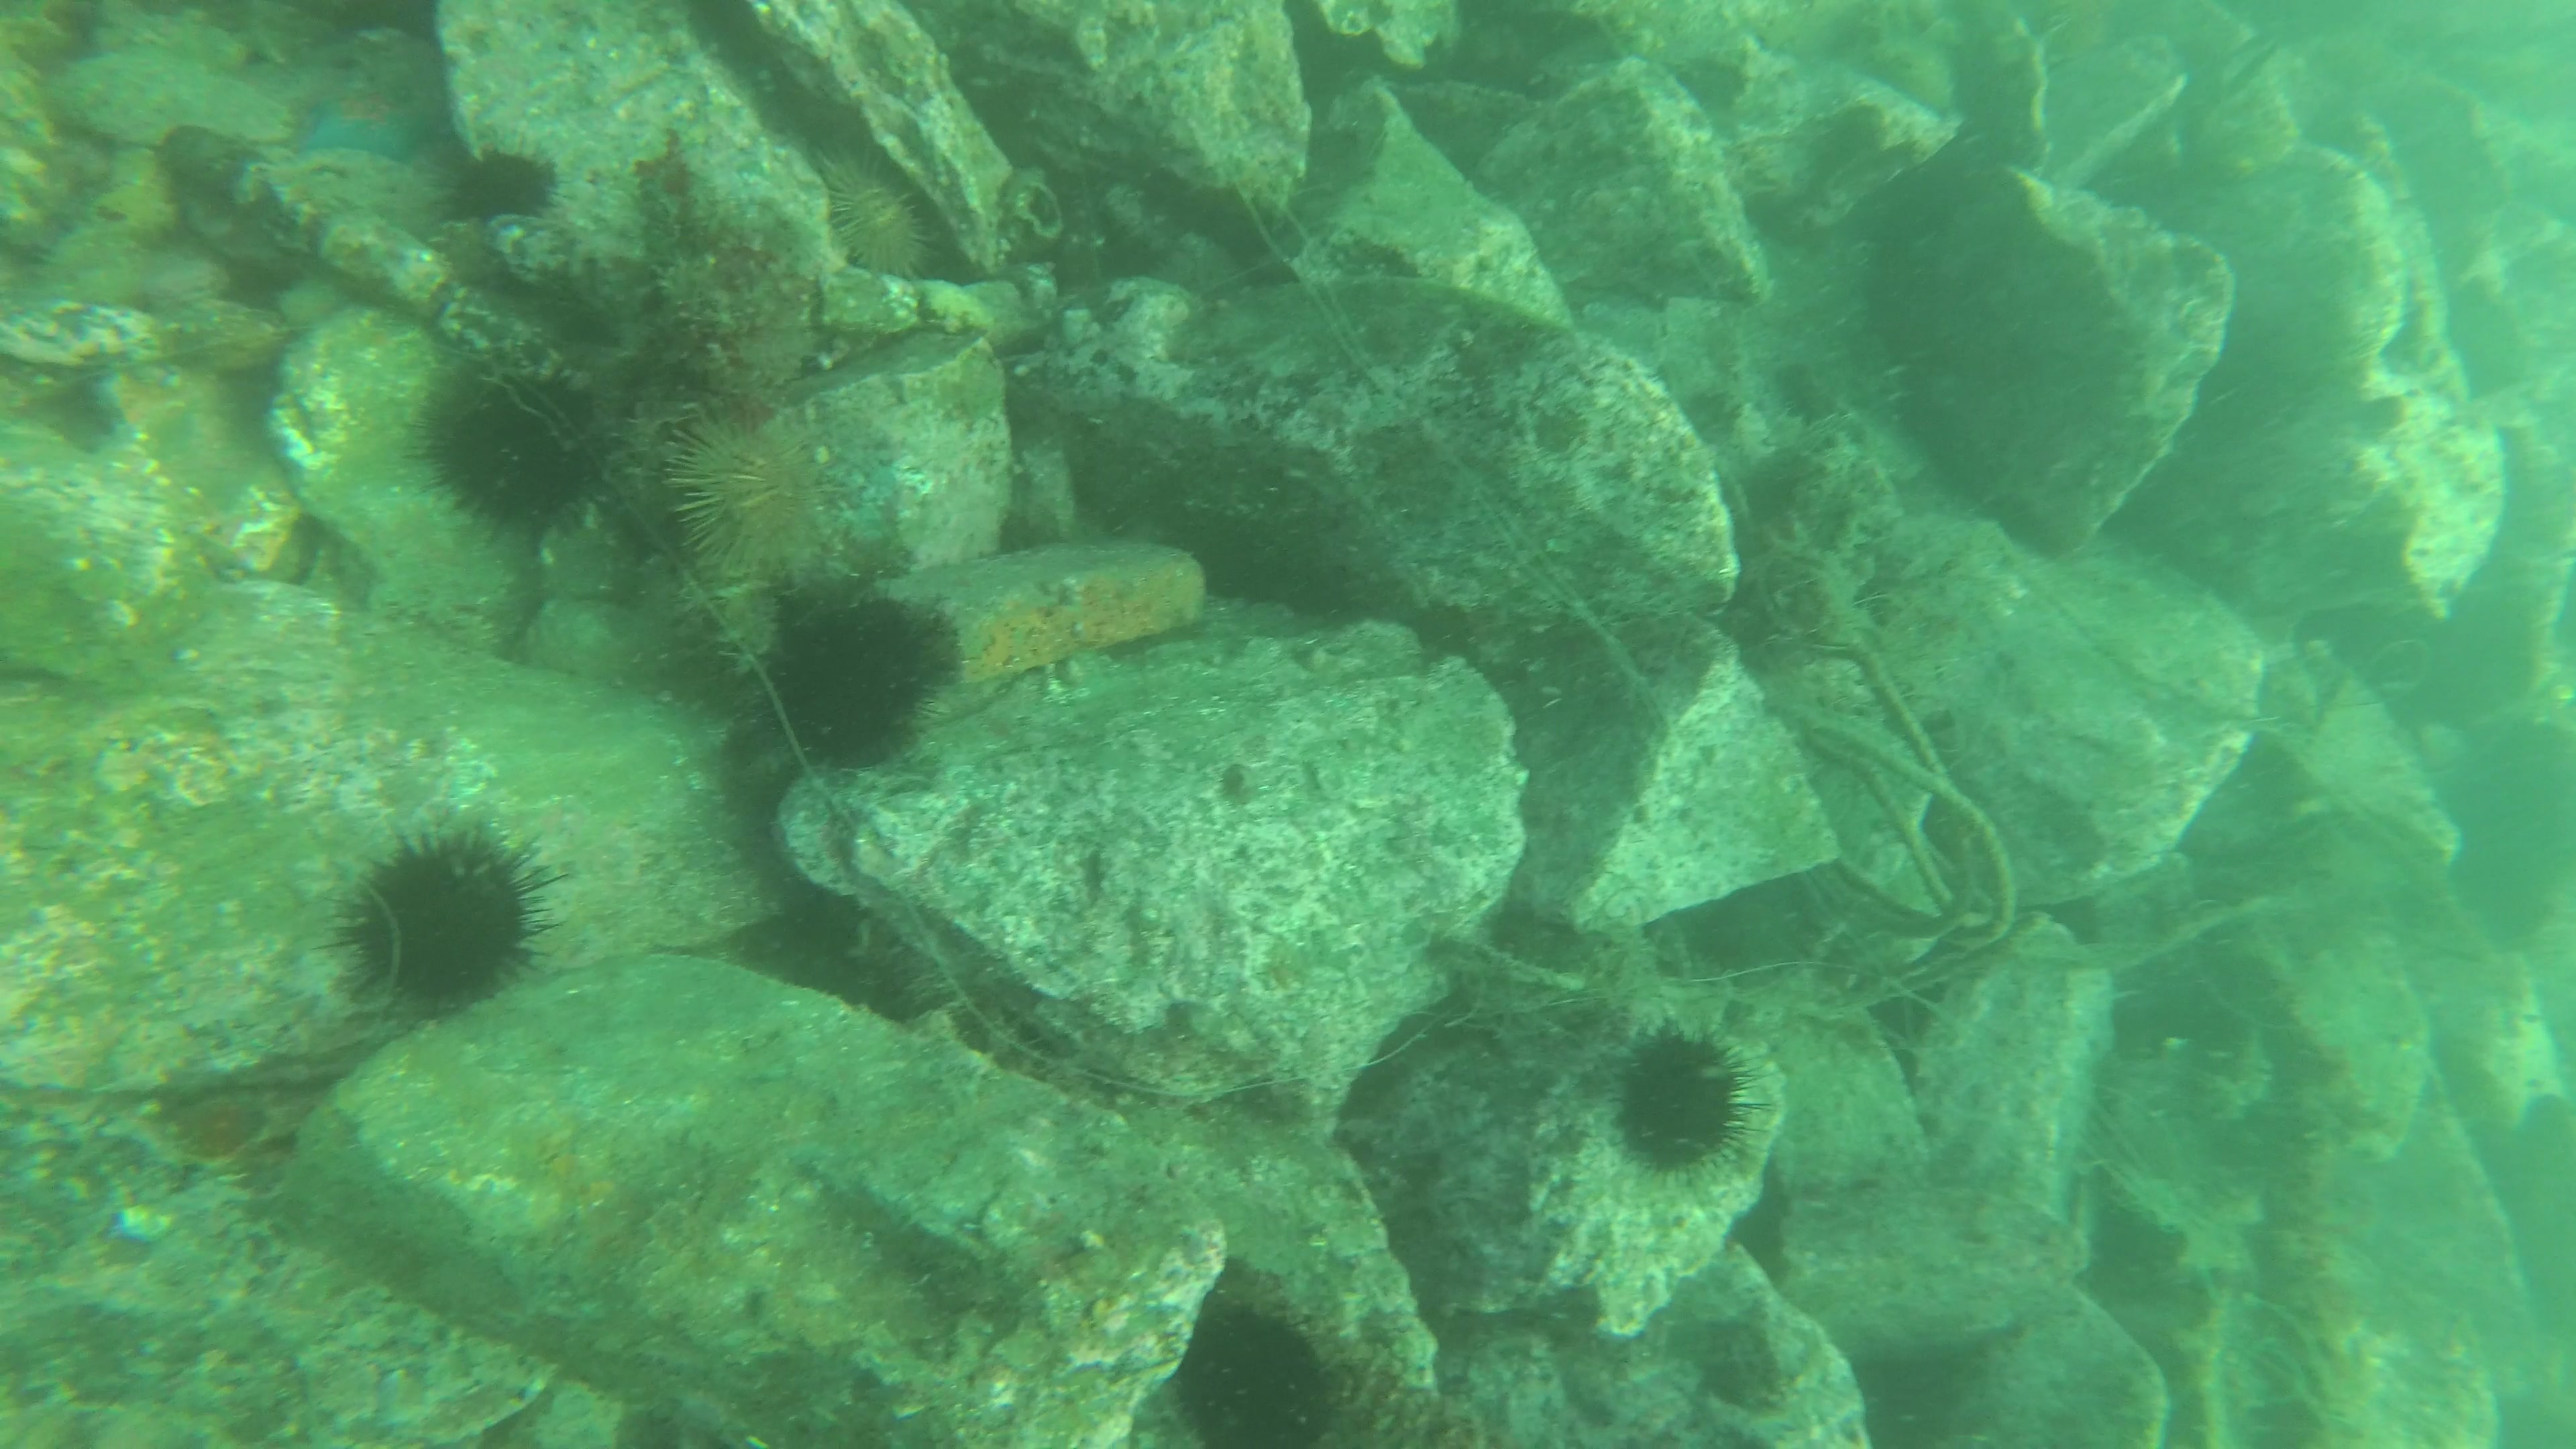echinus: (345, 828, 541, 1008), (671, 412, 844, 584), (761, 596, 932, 770), (441, 375, 605, 531), (1180, 1307, 1336, 1449), (1619, 1028, 1748, 1166), (817, 161, 939, 283), (451, 149, 557, 228)
starfish: (299, 73, 423, 166)
